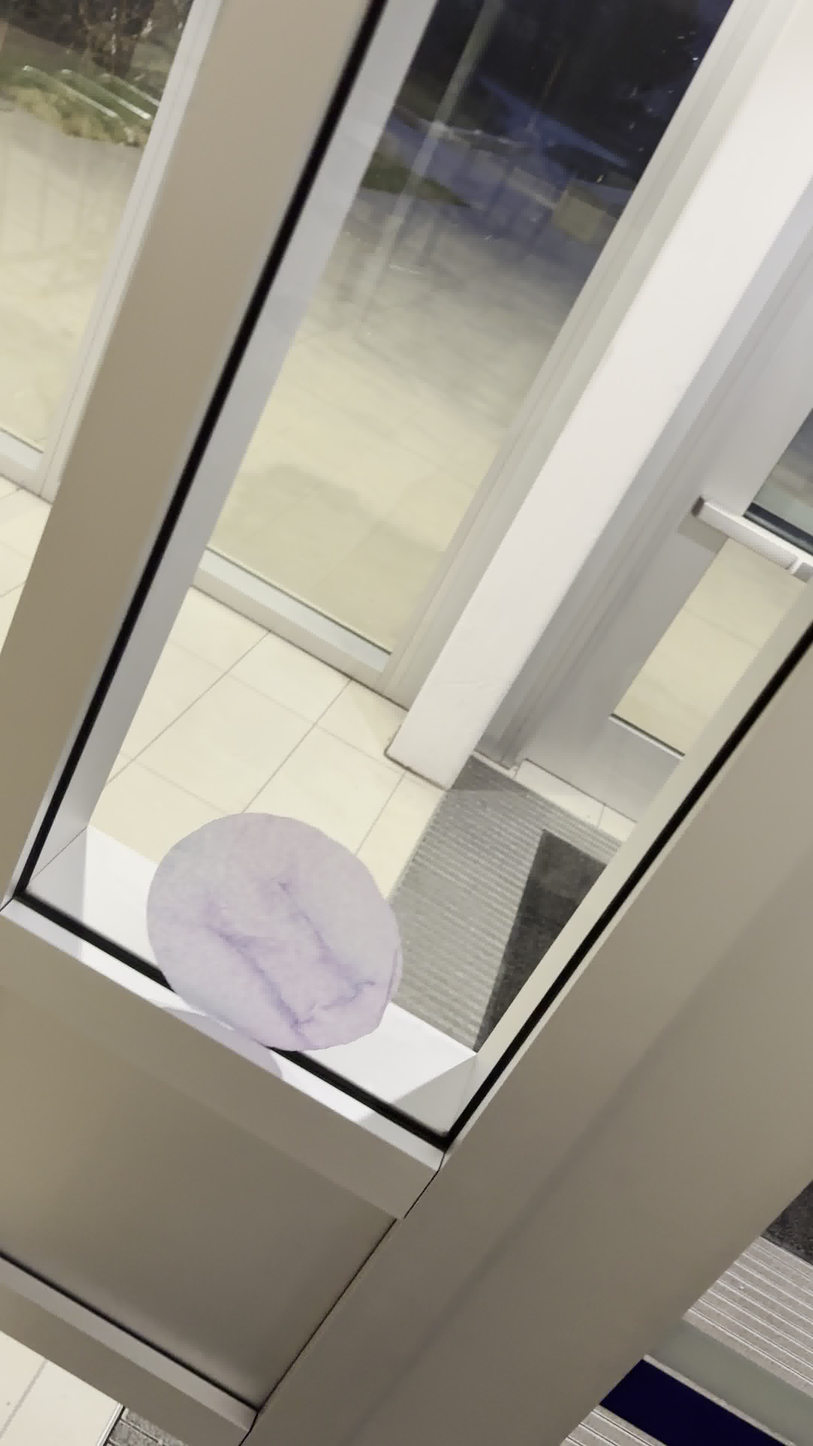Target: (143, 805, 407, 1059)
